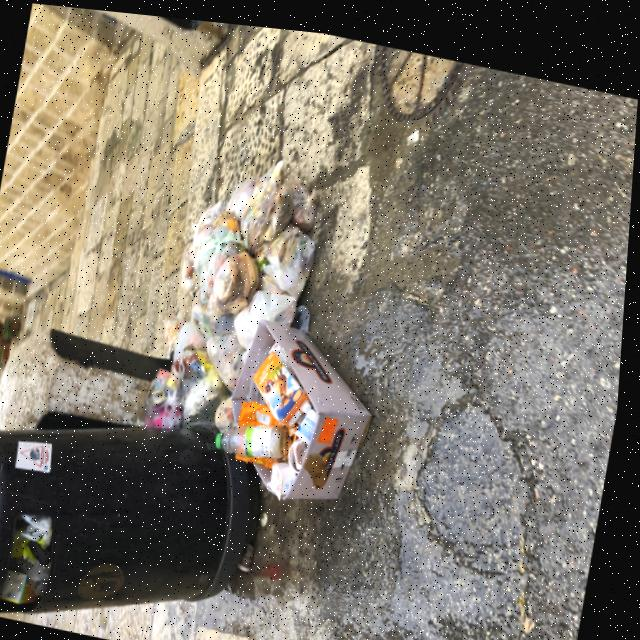Organic Waste -White Bag-: (235, 147, 302, 255), (172, 340, 245, 432), (256, 210, 324, 295), (234, 278, 302, 362), (191, 211, 251, 303), (182, 187, 226, 294), (210, 241, 267, 323), (203, 318, 257, 390), (148, 358, 198, 432), (191, 279, 245, 335), (221, 161, 264, 223), (284, 171, 328, 224), (174, 313, 214, 370)
Other: (215, 307, 390, 506), (4, 498, 71, 618), (242, 531, 270, 573)
